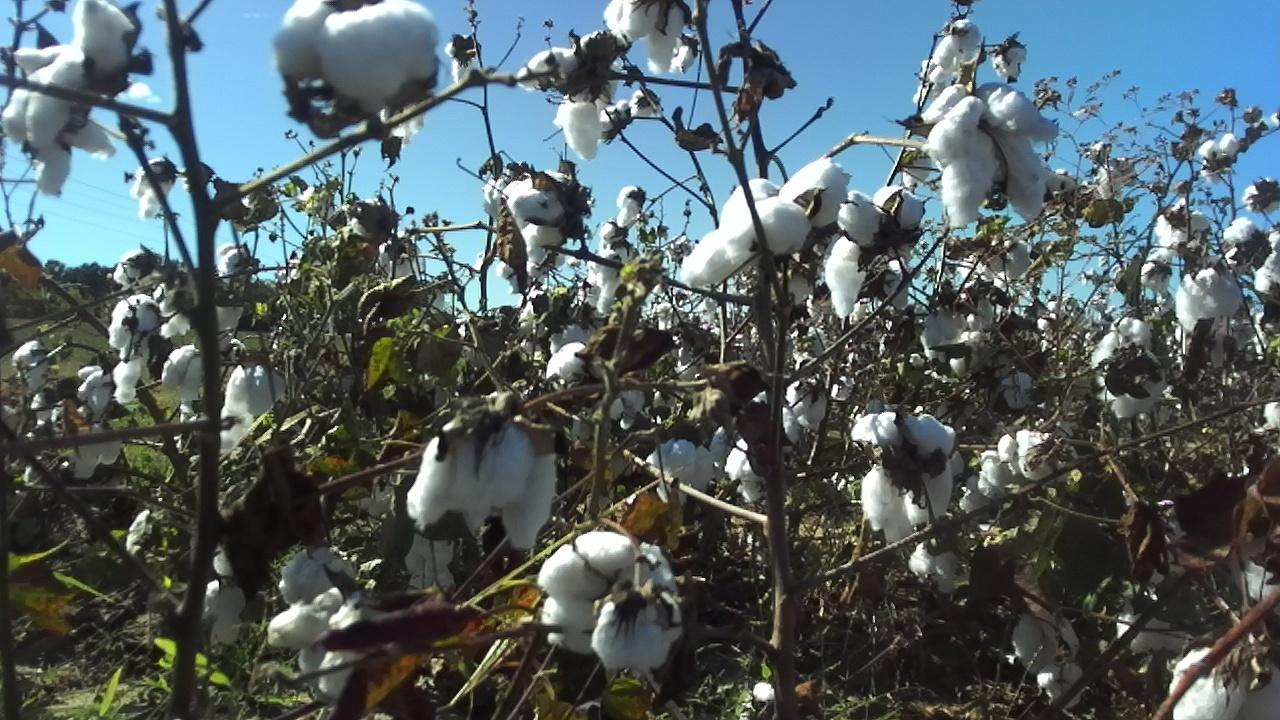cotton_ready: (681, 152, 852, 290), (408, 417, 557, 553), (4, 0, 139, 145), (925, 88, 1062, 230), (269, 0, 444, 110), (539, 530, 677, 658), (265, 540, 374, 696), (825, 189, 930, 322), (848, 409, 959, 534), (517, 21, 615, 162), (503, 164, 589, 281), (24, 122, 122, 199), (593, 594, 680, 675), (604, 0, 692, 75), (1169, 644, 1248, 720), (1174, 264, 1248, 334), (1099, 346, 1169, 418), (1008, 608, 1082, 675), (1115, 593, 1189, 656), (997, 428, 1077, 482), (1089, 313, 1157, 366), (646, 439, 718, 489), (1245, 655, 1280, 720)
